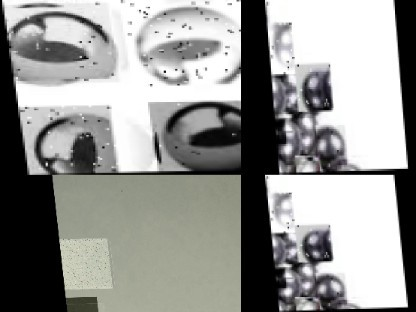ironball: (118, 0, 241, 86), (0, 3, 114, 83), (142, 101, 241, 172), (12, 105, 112, 174), (292, 63, 330, 112), (271, 120, 308, 169), (292, 224, 330, 263), (265, 23, 292, 75), (310, 126, 343, 166), (265, 192, 292, 233), (310, 273, 343, 305), (290, 155, 317, 173), (290, 296, 317, 311), (263, 174, 277, 187)
